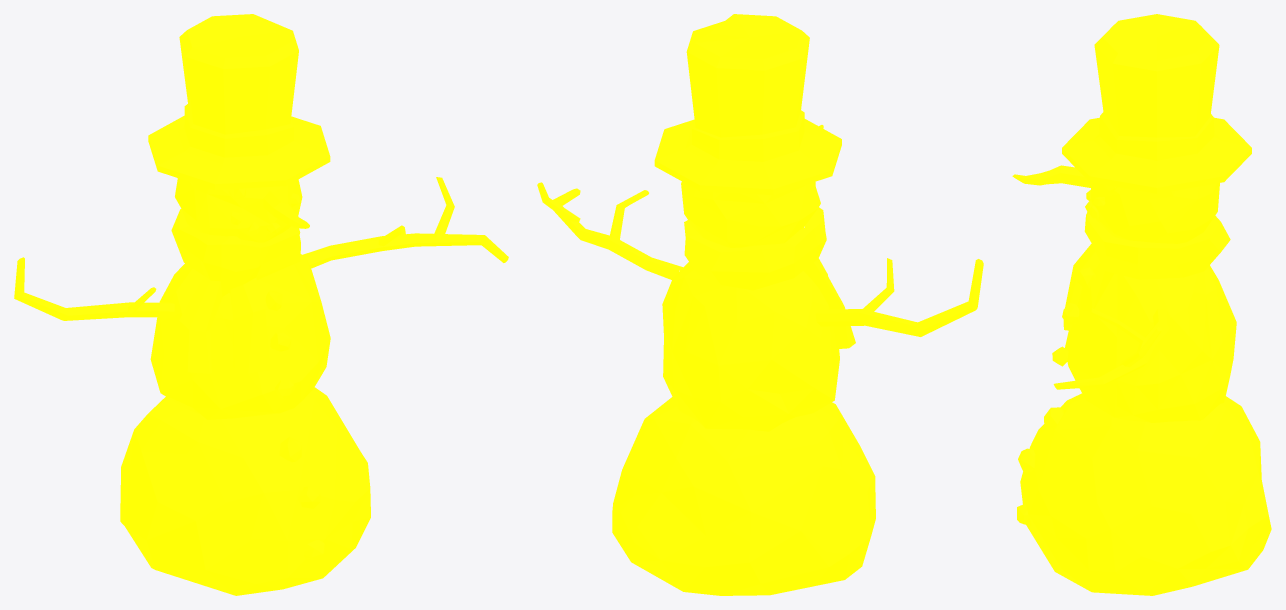
File: snowman-a.glb
3 views of the same model, side by side, from view 1: azimuth 30°, elevation 25°; view 2: azimuth 150°, elevation 25°; view 3: azimuth 270°, elevation 25° (orthographic). The views are drawn at different scales.
Visible parts, largest first — view 1: snowman_a; view 2: snowman_a; view 3: snowman_a.
Boxes of the visible parts, x1,y1,x2,y2 form: snowman_a: (14, 14, 508, 595); snowman_a: (537, 14, 983, 595); snowman_a: (1012, 14, 1271, 595).
Size of the model in its own units: 1.29 by 1.42 by 0.6455.
1 material, 1 textured.
